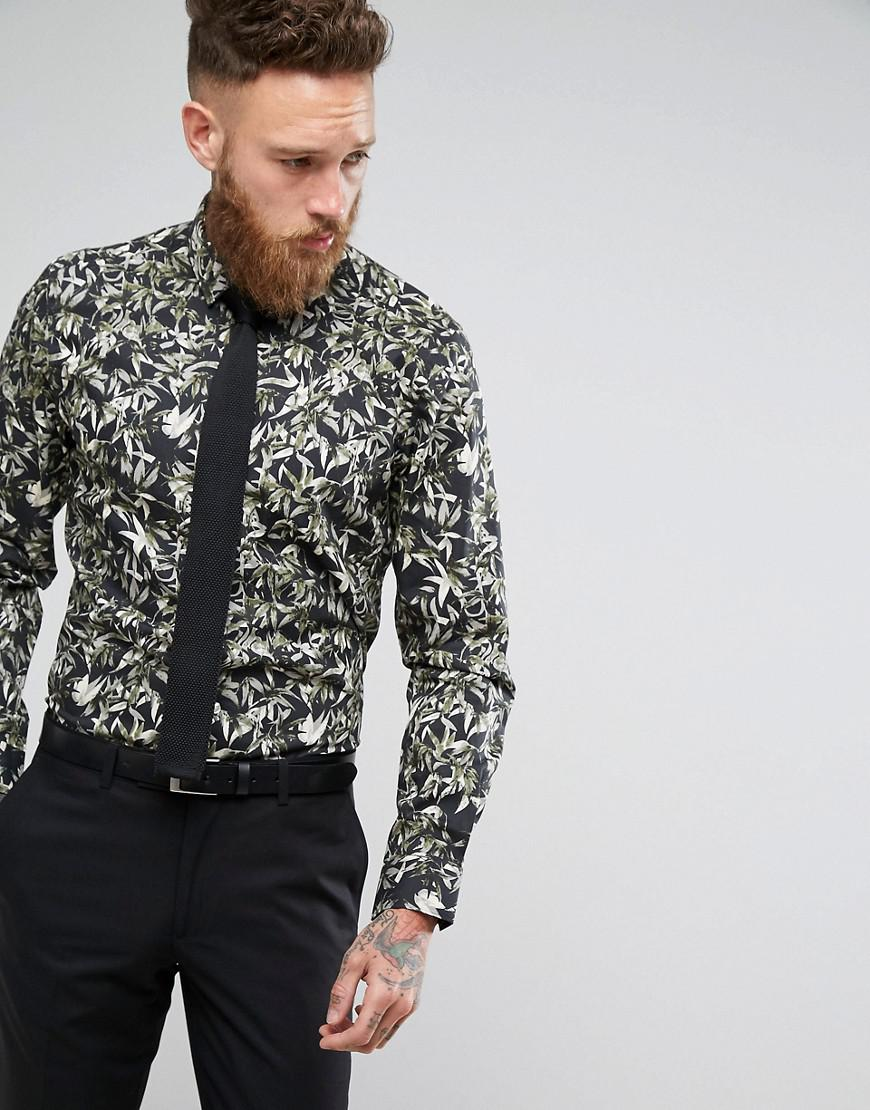teeshirt: (3, 190, 522, 957)
